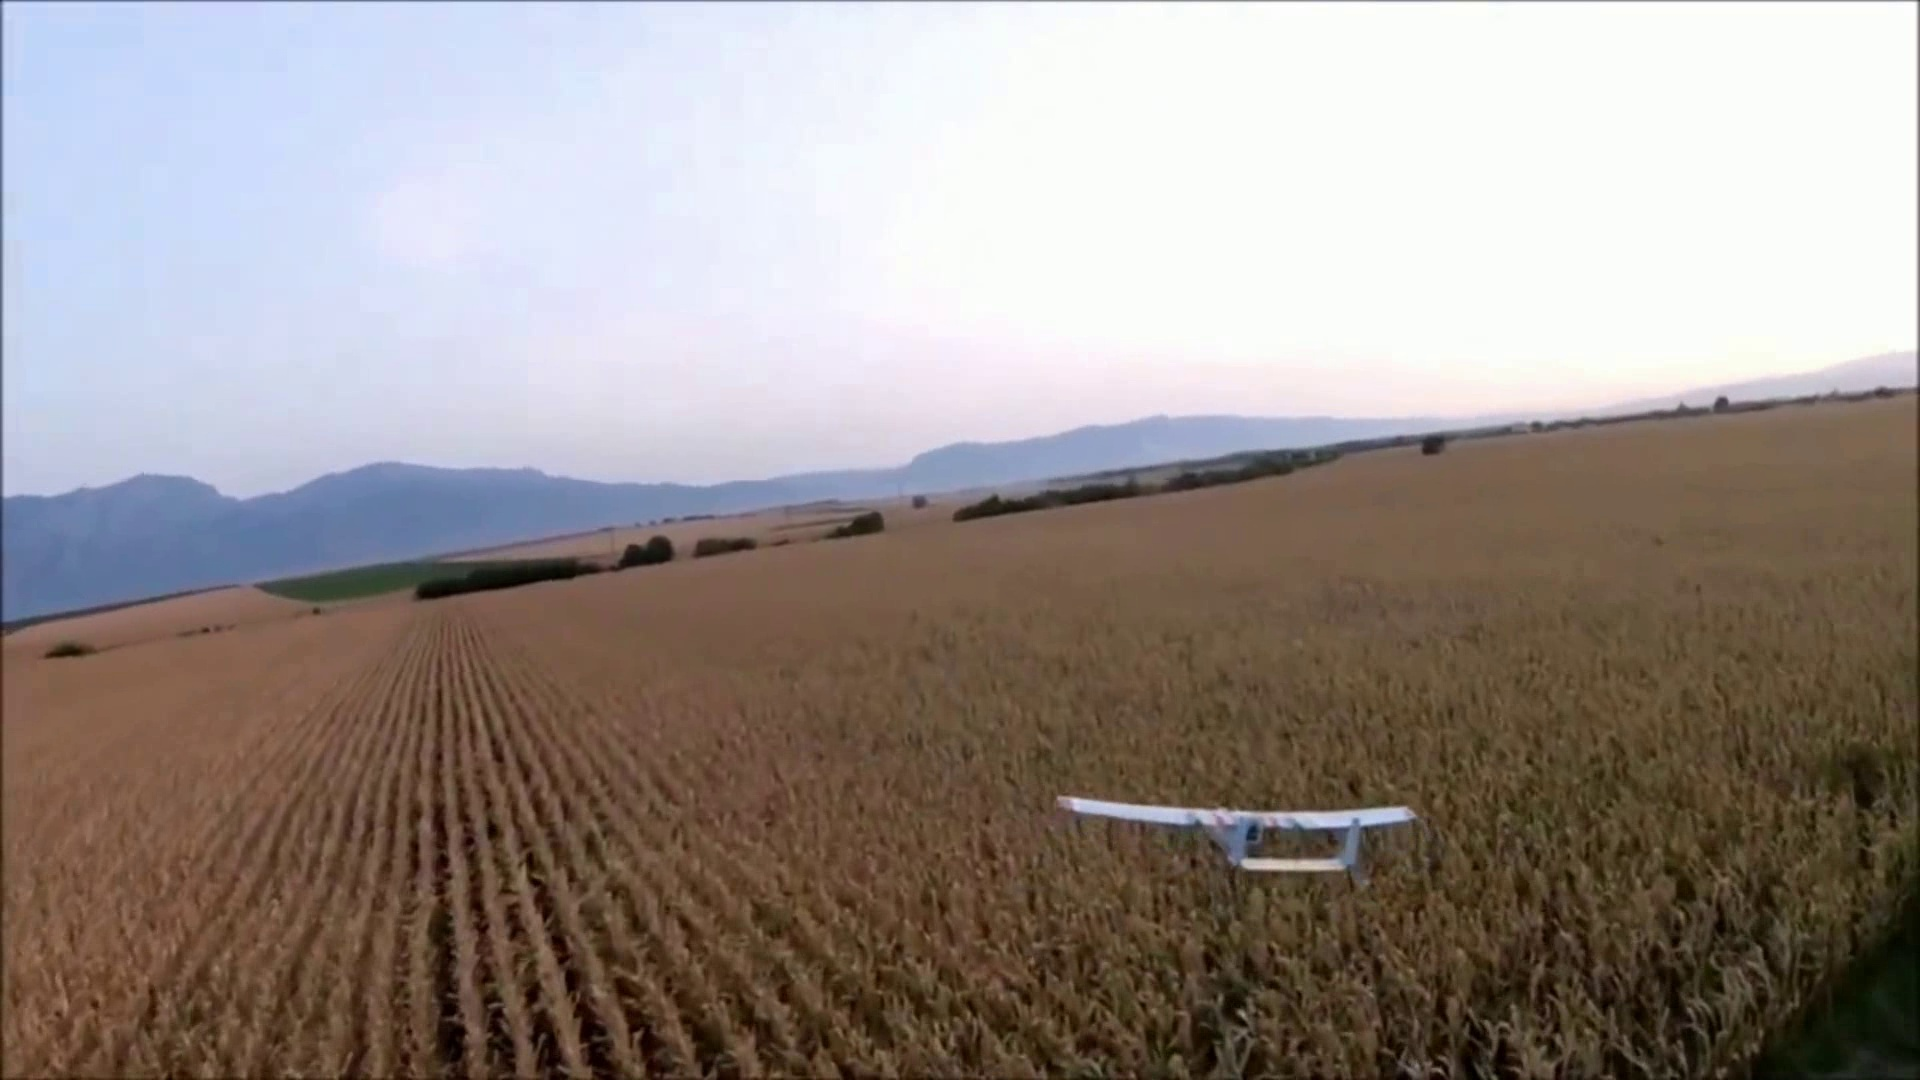airplane: (1058, 793, 1416, 882)
